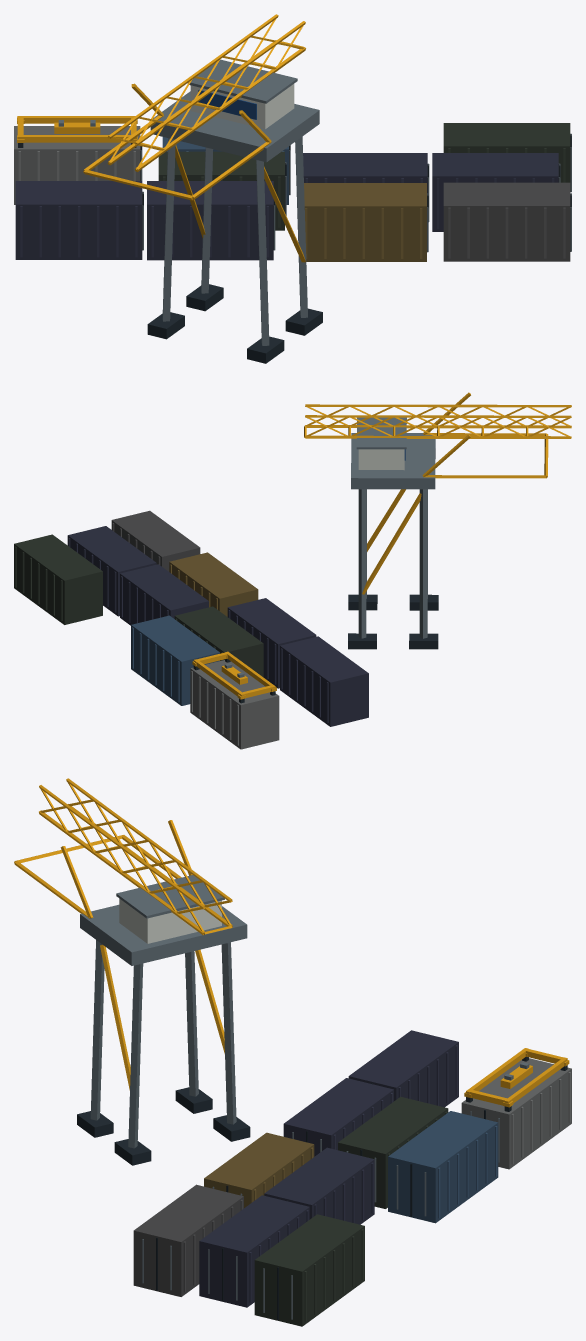
File: gantry-crane-nw-se-12.glb
3 views of the same model, one above another, from view 1: azimuth 30°, elevation 25°; view 2: azimuth 150°, elevation 25°; view 3: azimuth 270°, elevation 25° (orthographic). The views are drawn at different scales.
Parts seen in each view (by area): view 1: gantry-crane-nw-se-12; view 2: gantry-crane-nw-se-12; view 3: gantry-crane-nw-se-12.
Part boxes in pixels (bbox=[...]): gantry-crane-nw-se-12: bbox=[14, 14, 571, 363]; gantry-crane-nw-se-12: bbox=[14, 392, 571, 749]; gantry-crane-nw-se-12: bbox=[14, 778, 571, 1326].
Bounding box in the file's own units: 69.94 × 31.18 × 58.78.
